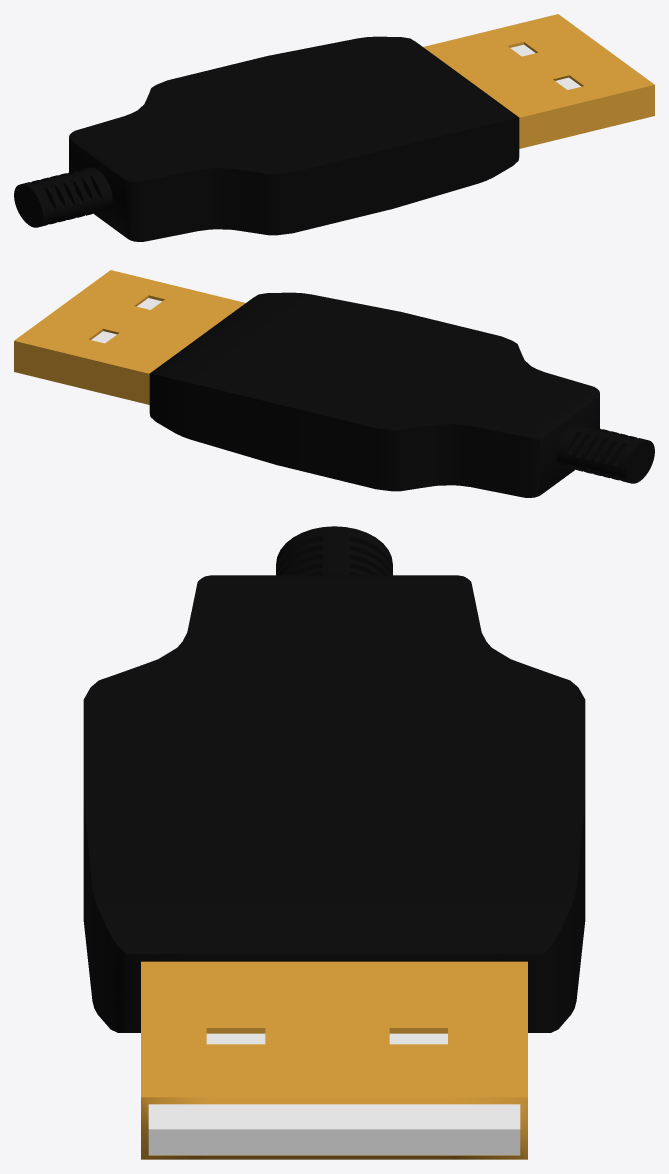
Rendered from usb.fbx.
The picture shows the model from 3 angles, top to bottom: view 1: azimuth 30°, elevation 25°; view 2: azimuth 150°, elevation 25°; view 3: azimuth 270°, elevation 25°; orthographic projection. The views are drawn at different scales.
Visible parts, largest first — view 1: Cylinder; view 2: Cylinder; view 3: Cylinder.
Part boxes in pixels (x1,y1,x2,y2): Cylinder: (14,14,654,241); Cylinder: (14,270,654,497); Cylinder: (83,526,585,1159).
Size of the model in its own units: 141 by 14.22 by 52.89.
